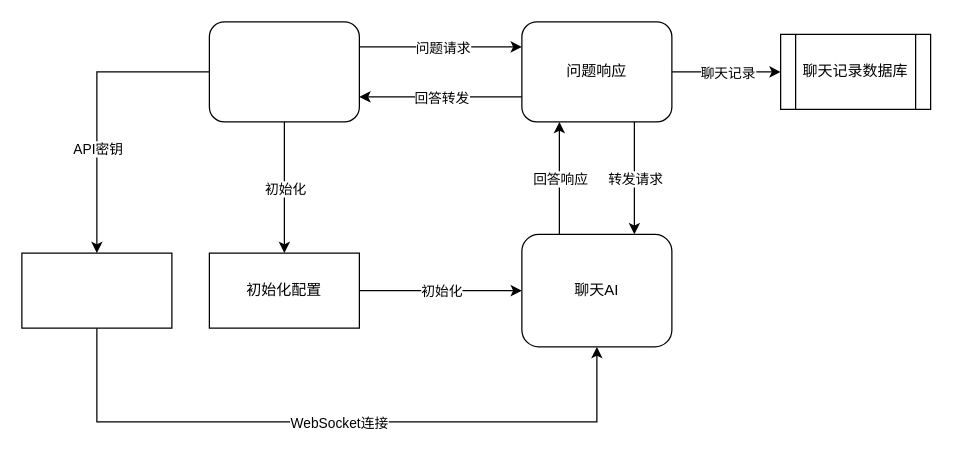
The diagram is 953 pixels wide and 454 high, and some of its shapes have lost their labels. The shapes that lost their labels are listed below. From the top down, each one's centre as x and y in pixels, then its label:
the point at 283,71: 用户
the point at 96,290: 生成认证URL
